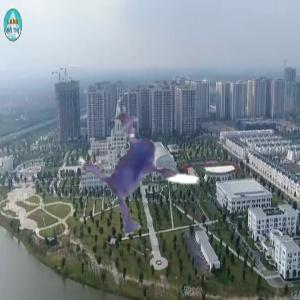drone: (62, 84, 254, 276)
